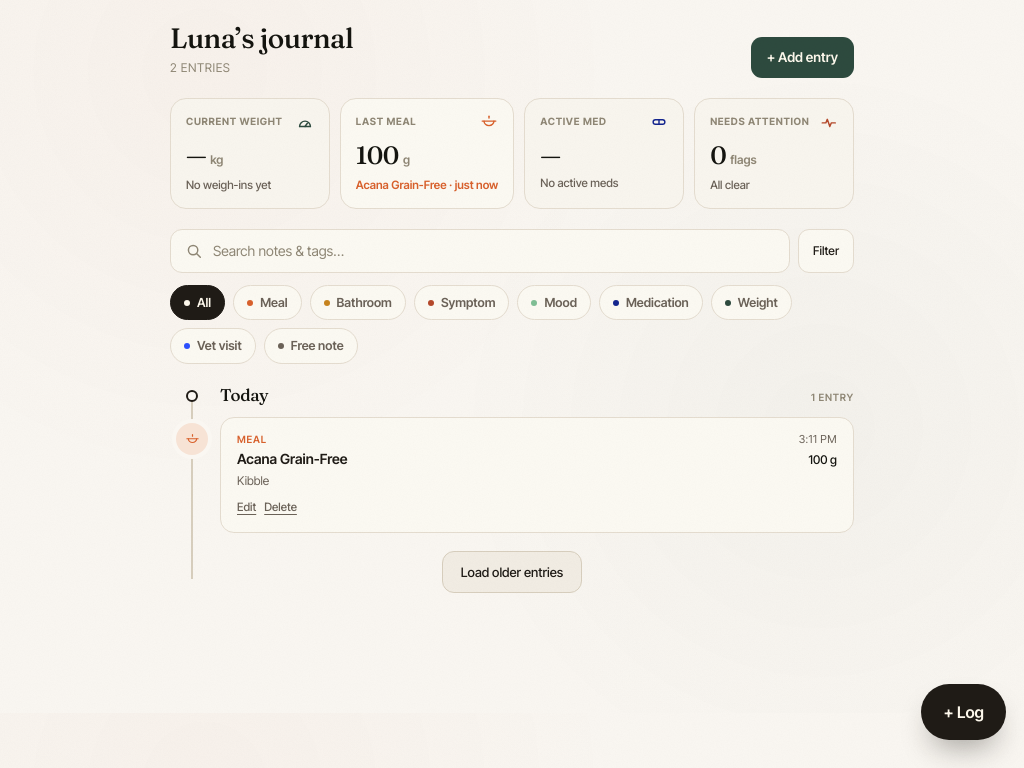
JournalTimeline feed › loads older entries with the cursor
What coordinates should you click on to do the following:
click the button "Load older entries"
I would click on:
 (512, 572)
Its box is [442,551,582,593].
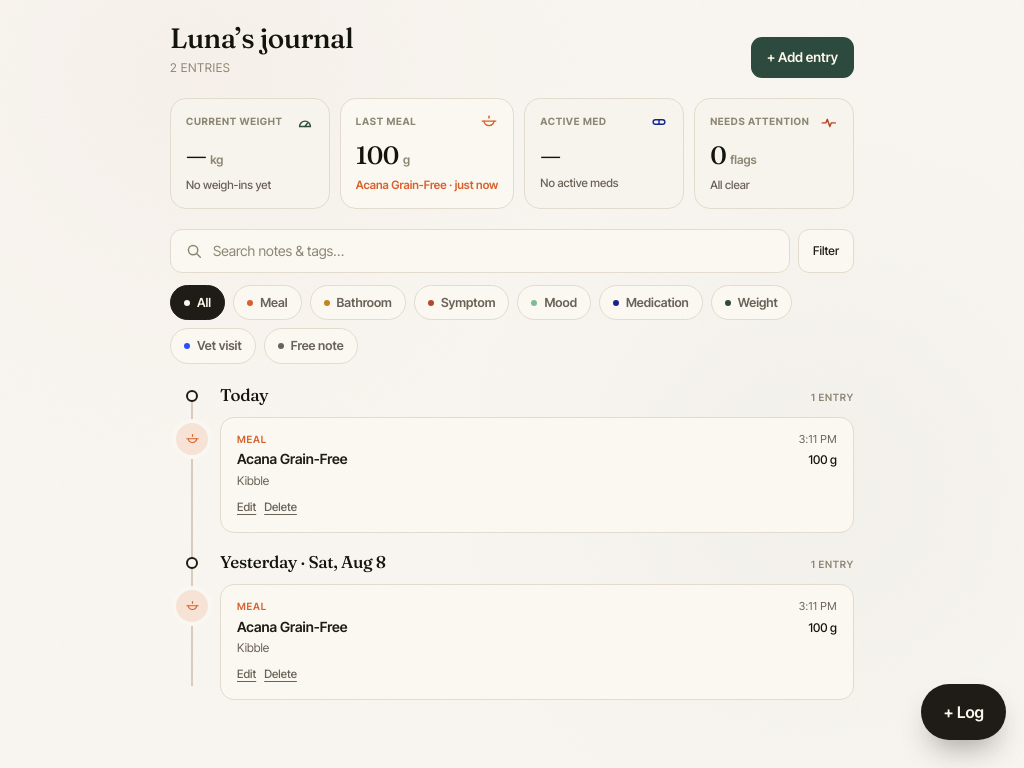
expect the text "Acana Grain-Free" is shown 2 times: met, box [237,450,348,468]; [237,618,348,635]
